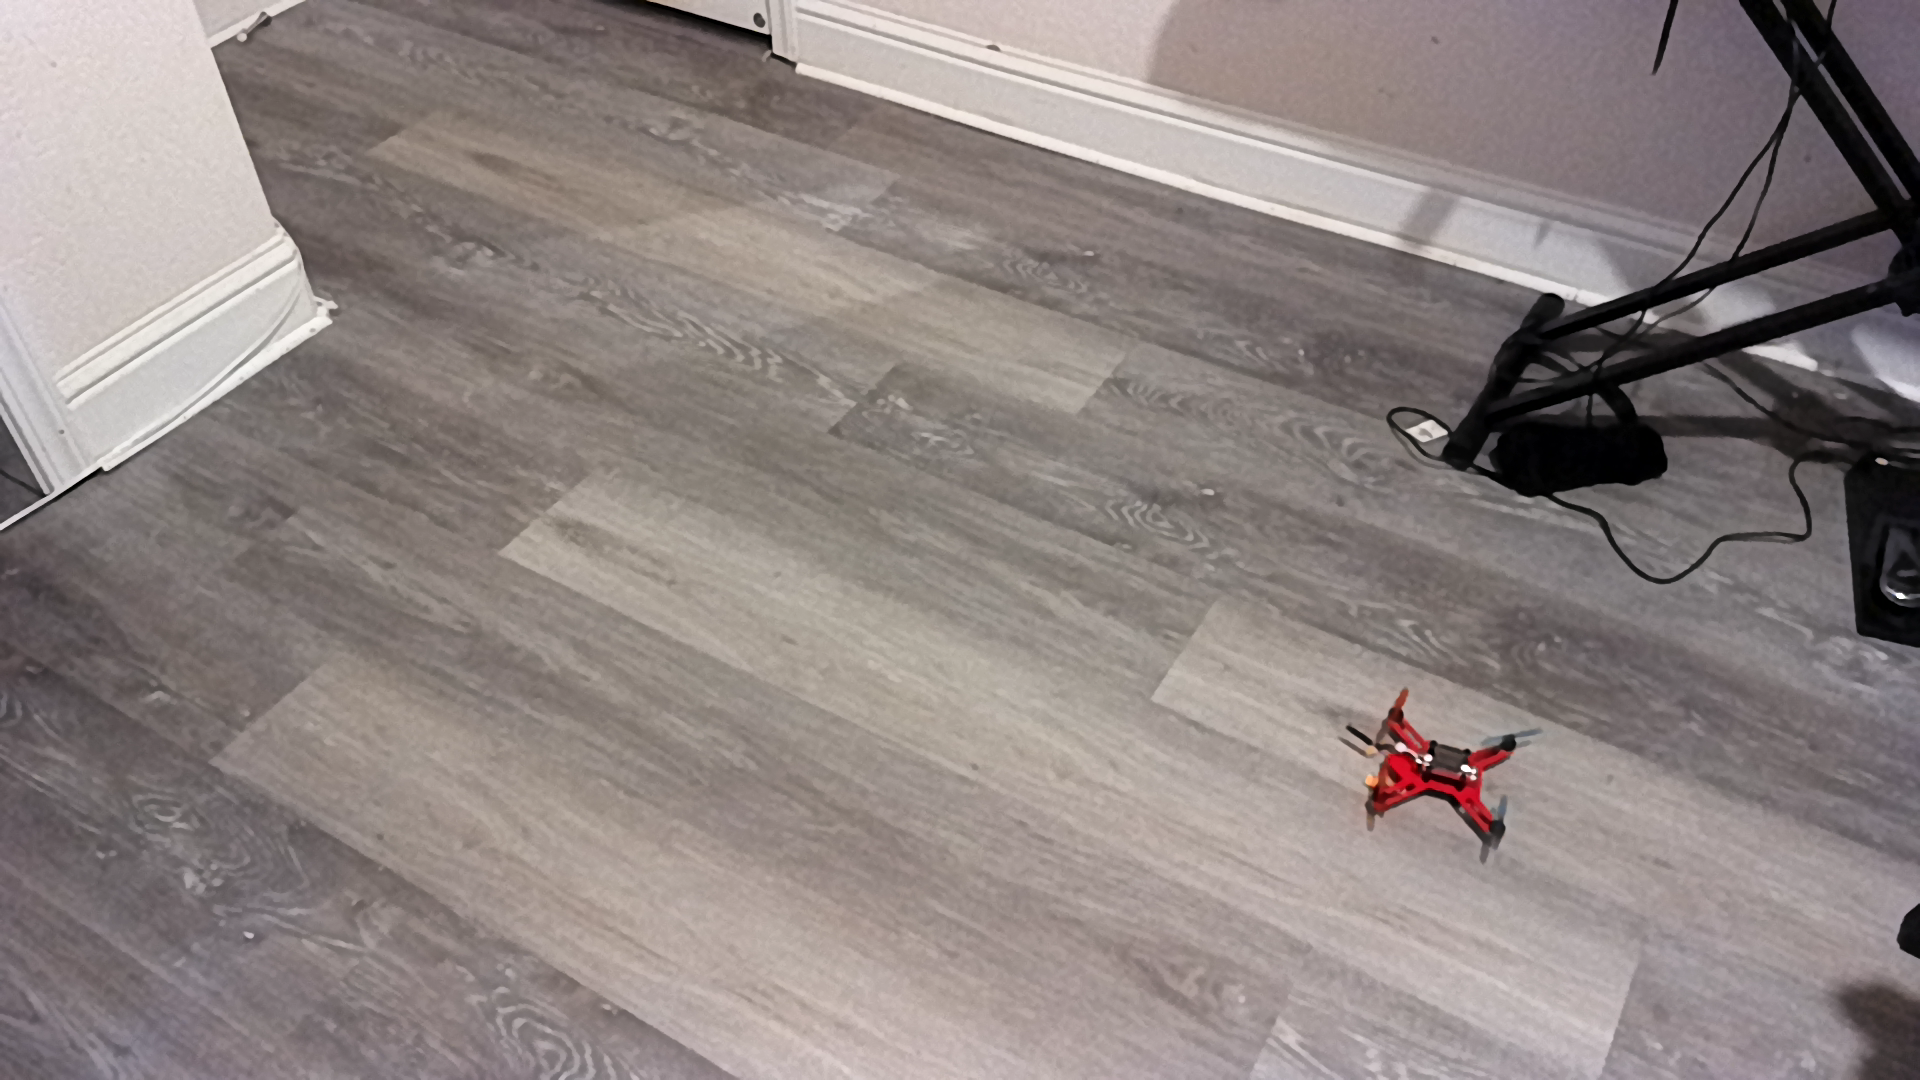drone: (1345, 690, 1545, 853)
